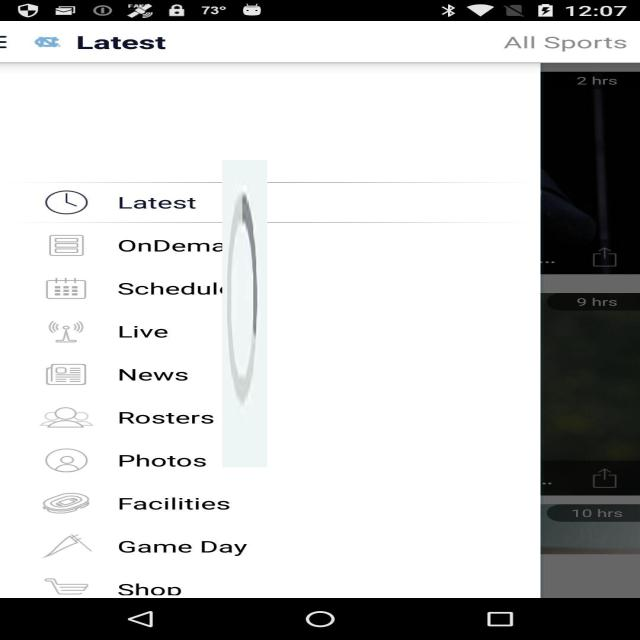misdirection: (222, 160, 267, 467)
